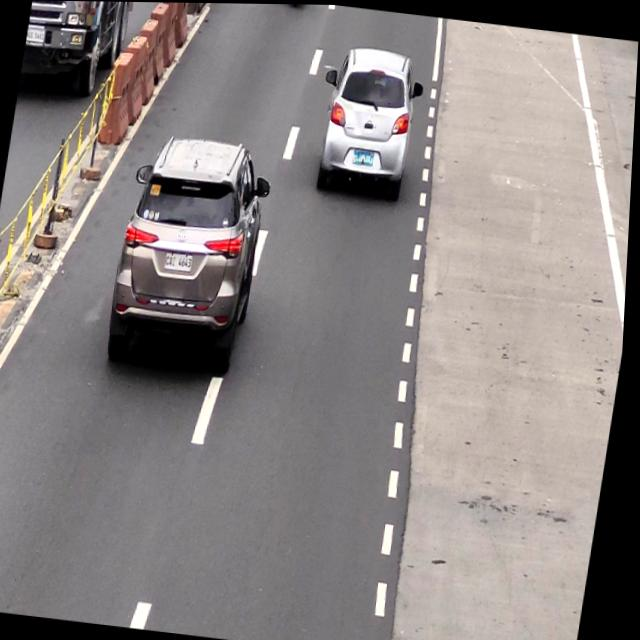Car: (108, 134, 276, 372), (317, 39, 423, 200)
License-Plate: (165, 248, 196, 271), (353, 144, 378, 166)
